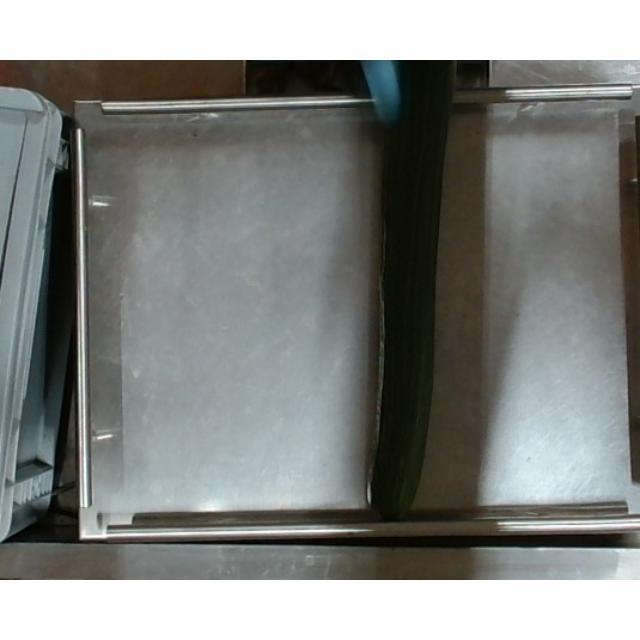cucumber: (368, 60, 457, 522)
